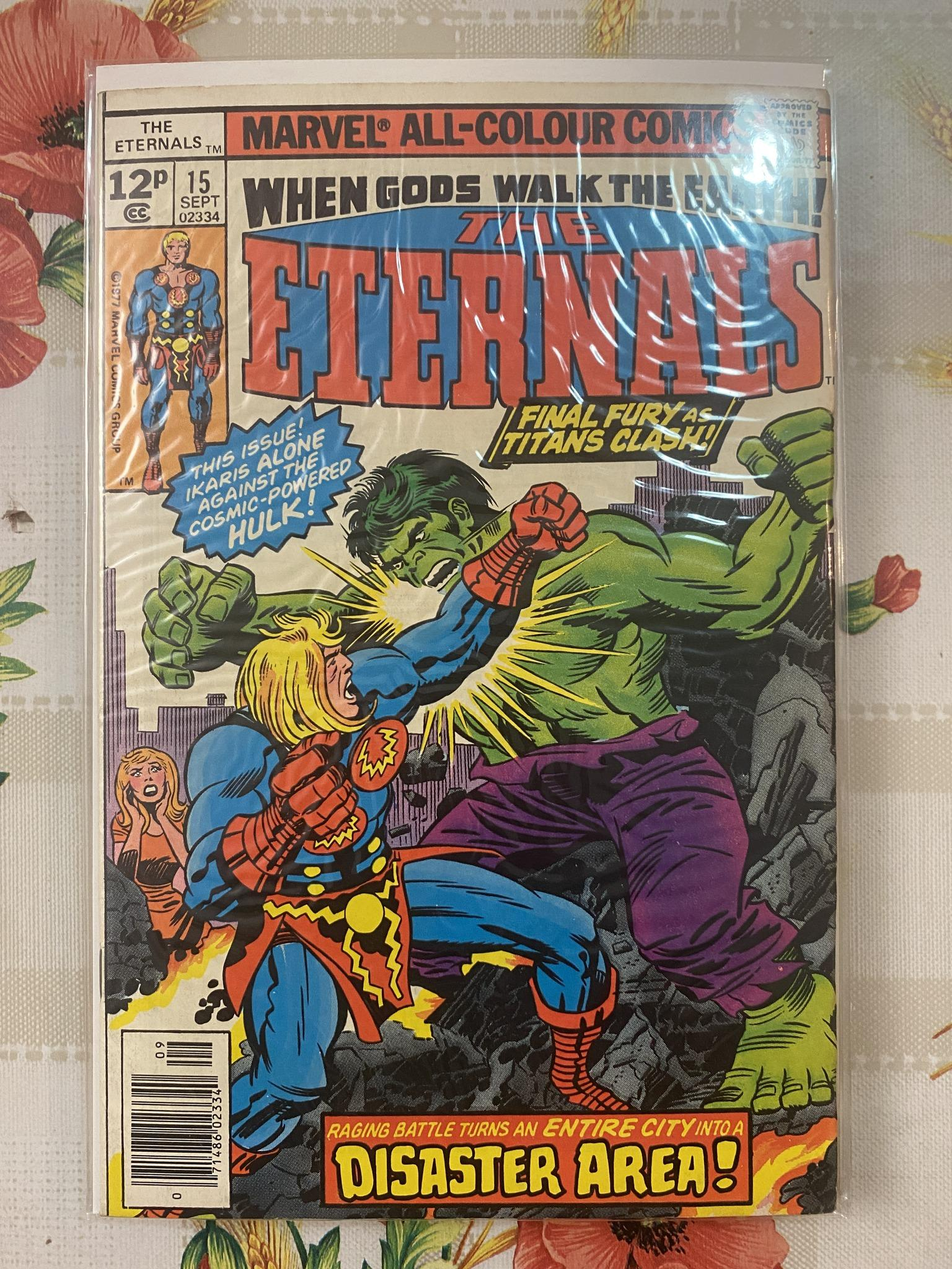comic: (89, 61, 836, 1218)
